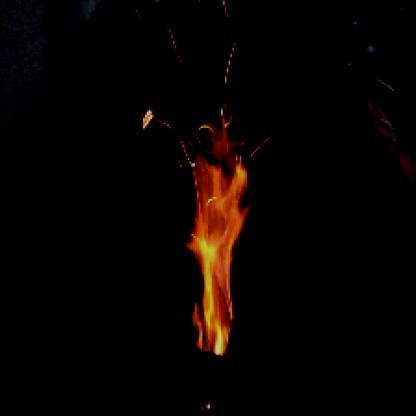Fire: (178, 102, 258, 357)
